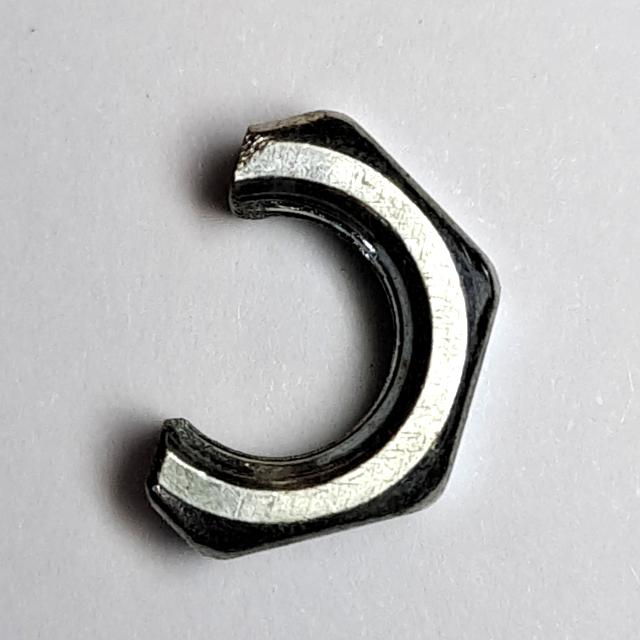Fracture: (129, 100, 513, 576)
